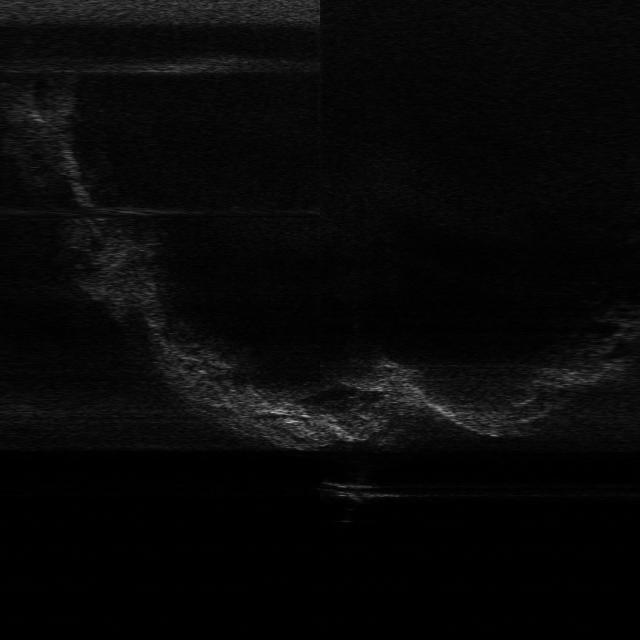plane: (316, 478, 410, 505)
